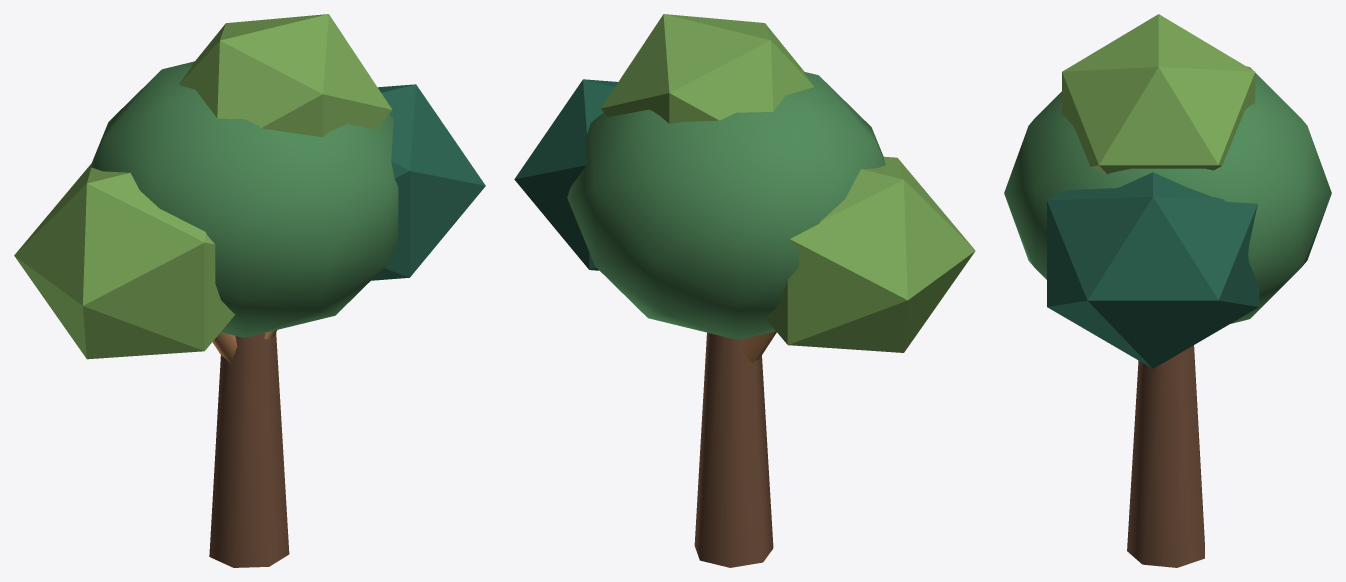
File: broadleaf-tree.glb
3 renders of one model, left to right at view 1: azimuth 30°, elevation 25°; view 2: azimuth 150°, elevation 25°; view 3: azimuth 270°, elevation 25°, orthographic.
Parts seen in each view (by area): view 1: crown-center, crown-left, crown-top, trunk, crown-right; view 2: crown-center, crown-left, crown-top, trunk, crown-right, branch-left; view 3: crown-right, crown-center, crown-top, trunk.
Part boxes in pixels (left/top/right/bottom): crown-center: left=90, top=61, right=398, bottom=337; crown-left: left=14, top=163, right=234, bottom=359; crown-top: left=179, top=14, right=392, bottom=137; trunk: left=209, top=332, right=289, bottom=567; crown-right: left=371, top=84, right=485, bottom=280; crown-center: left=567, top=72, right=885, bottom=339; crown-left: left=765, top=156, right=975, bottom=352; crown-top: left=601, top=14, right=813, bottom=123; trunk: left=694, top=332, right=773, bottom=567; crown-right: left=514, top=79, right=617, bottom=270; branch-left: left=742, top=331, right=776, bottom=363; crown-right: left=1047, top=172, right=1259, bottom=368; crown-center: left=1004, top=66, right=1331, bottom=323; crown-top: left=1062, top=14, right=1255, bottom=174; trunk: left=1127, top=345, right=1204, bottom=567.
Bounding box in the file's own units: 2.49 × 3.08 × 1.76.
